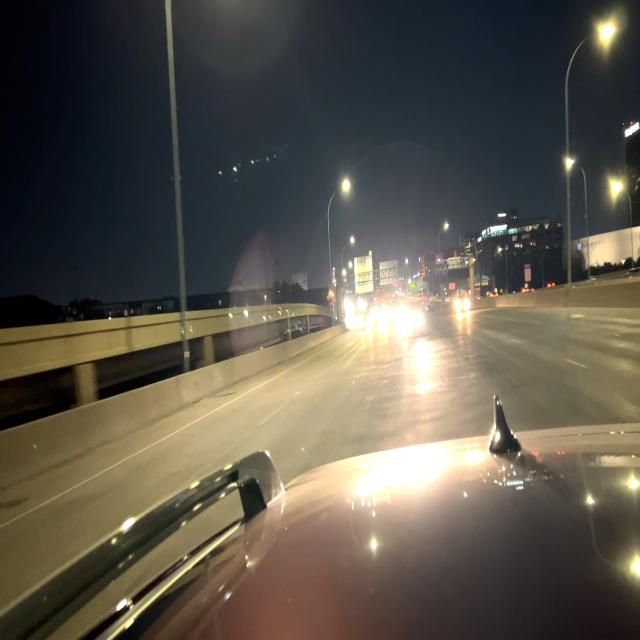back-of-sign: (355, 250, 374, 296), (379, 258, 399, 287)
